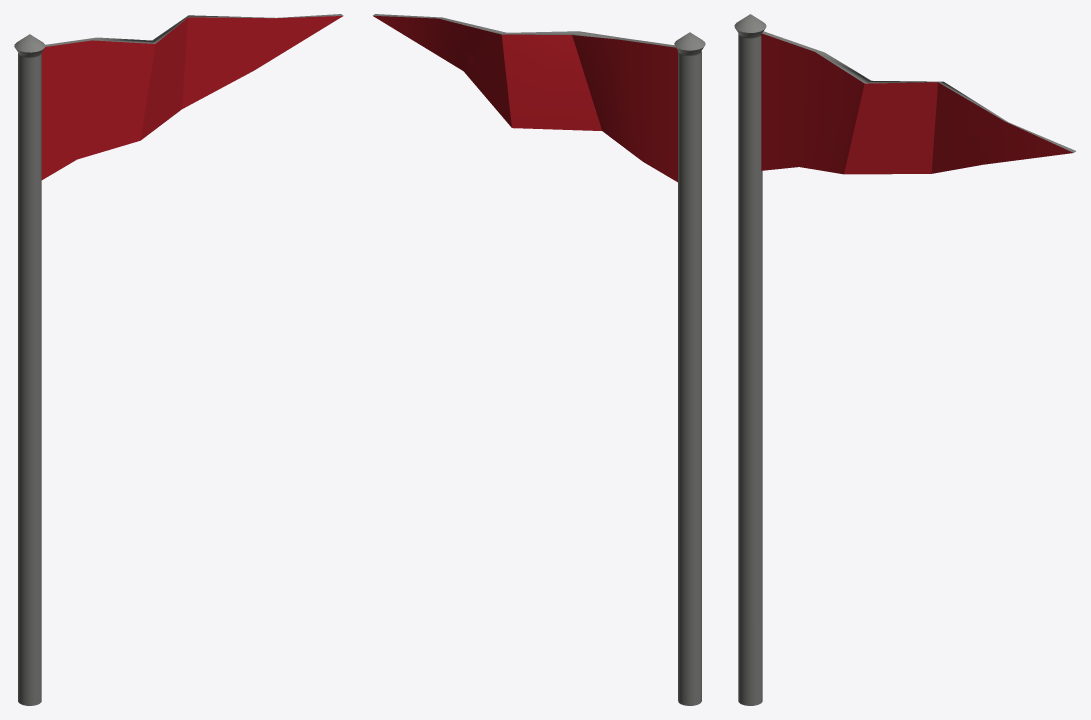
The model's file is flag.gltf.
3 renders of one model, left to right at view 1: azimuth 30°, elevation 25°; view 2: azimuth 150°, elevation 25°; view 3: azimuth 330°, elevation 25°, orthographic. The views are drawn at different scales.
Visible parts, largest first — view 1: flag; view 2: flag; view 3: flag.
Boxes of the visible parts, left/top/right/bottom form: flag: left=14, top=14, right=343, bottom=705; flag: left=373, top=14, right=705, bottom=705; flag: left=734, top=14, right=1075, bottom=705.
Size of the model in its own units: 3.11 by 6.04 by 0.4022.
